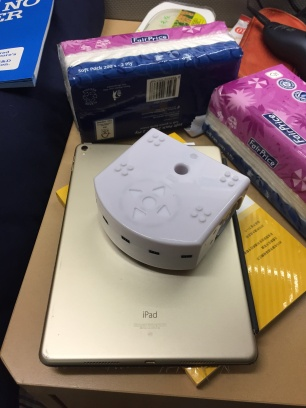thymio: (71, 119, 260, 281)
